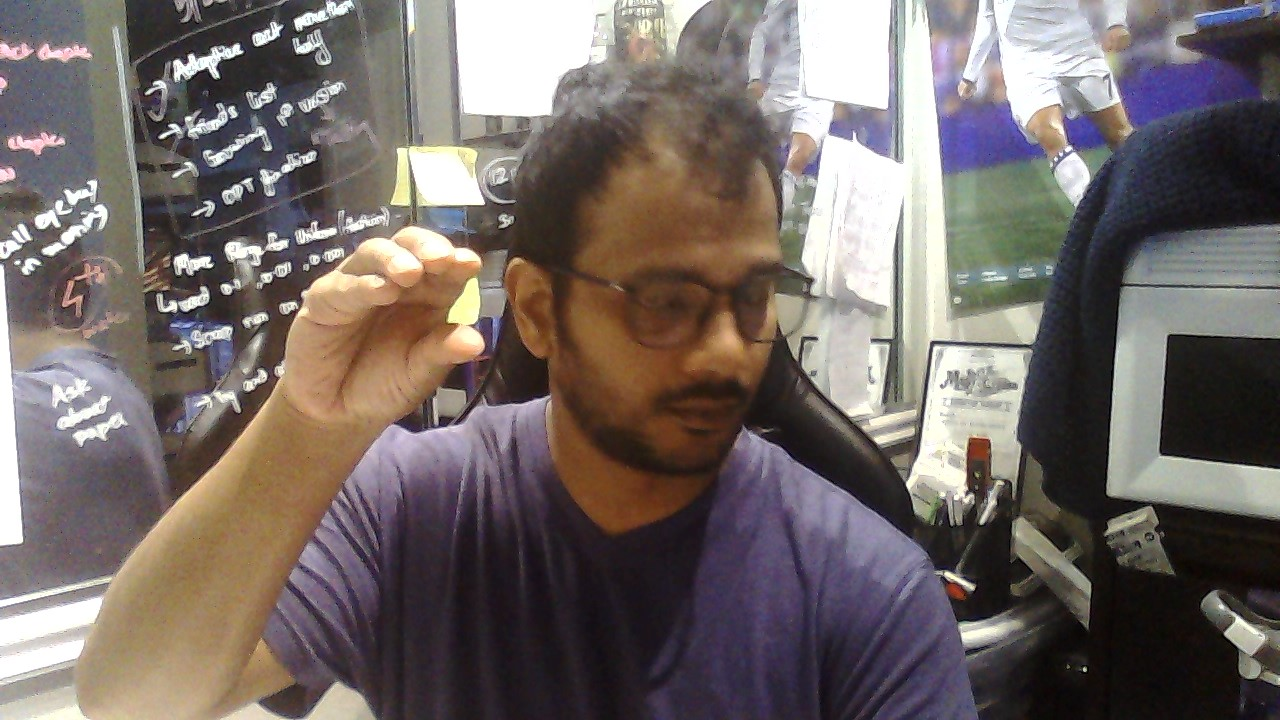No: (285, 227, 486, 428)
